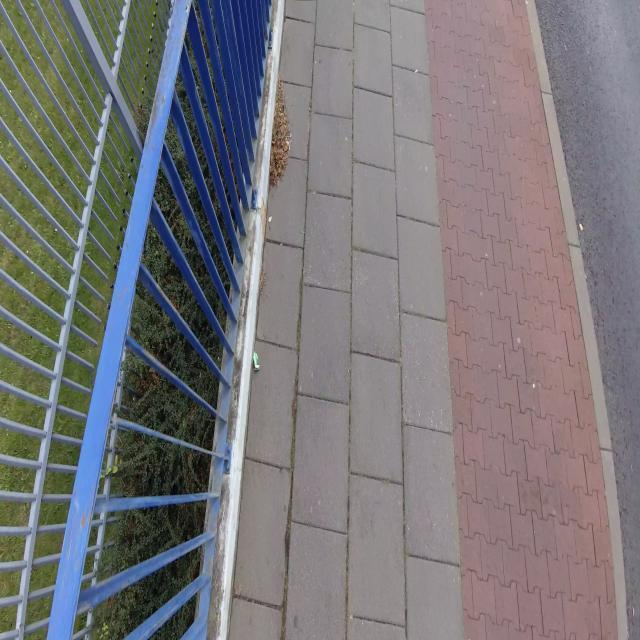rubbish: (252, 351, 260, 372)
